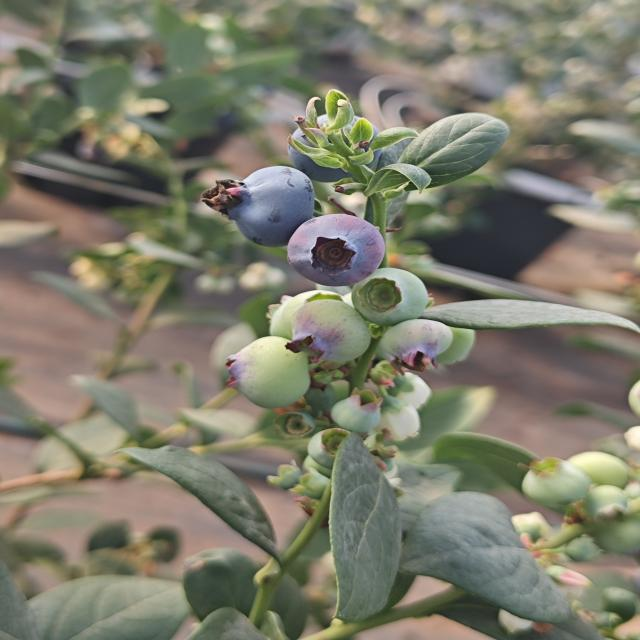ripe: (210, 155, 320, 246), (285, 106, 380, 188), (282, 211, 379, 289)
